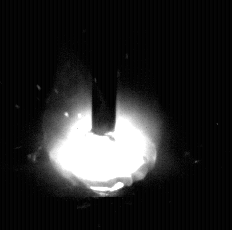arame: (92, 0, 117, 136)
poca: (45, 0, 158, 230)
